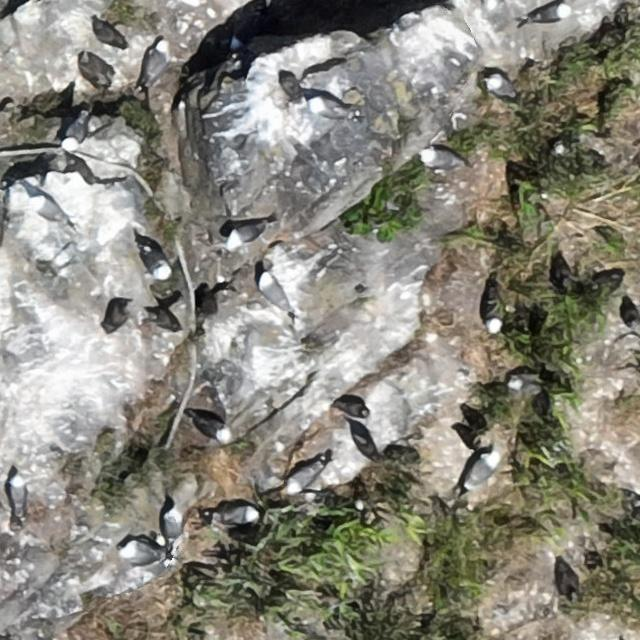umineko: (145, 40, 170, 90), (310, 96, 357, 120), (467, 453, 497, 486), (288, 463, 319, 491), (193, 416, 228, 438), (144, 248, 169, 278), (220, 506, 257, 525), (425, 150, 460, 169), (259, 276, 281, 306), (163, 506, 181, 542), (34, 197, 62, 220), (10, 475, 26, 514), (489, 76, 516, 99), (124, 542, 158, 560), (228, 225, 260, 244), (533, 6, 565, 23), (63, 120, 84, 144), (485, 307, 502, 332)
